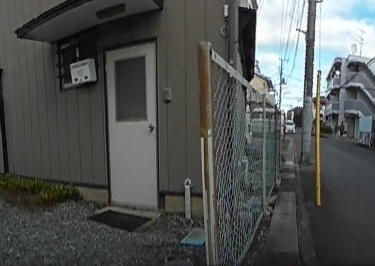person: (337, 120, 345, 137)
